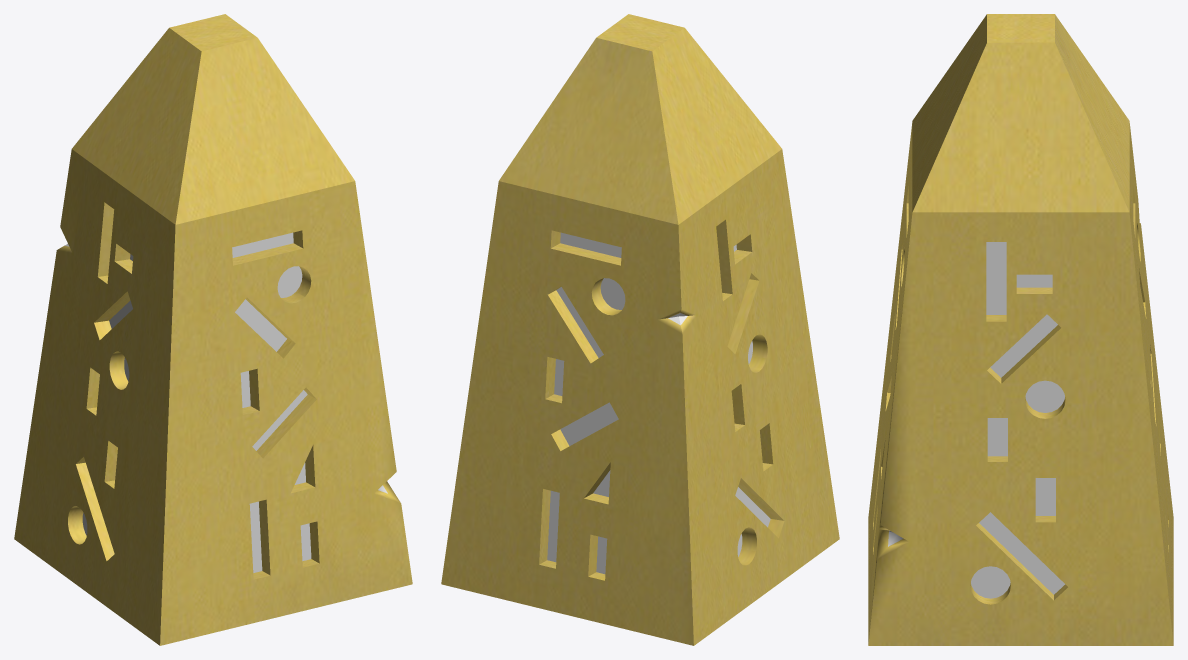
File: doradoParpadeoVerde.fbx
3 views of the same model, side by side, from view 1: azimuth 30°, elevation 25°; view 2: azimuth 150°, elevation 25°; view 3: azimuth 270°, elevation 25° (orthographic). The views are drawn at different scales.
Parts seen in each view (by area): view 1: pCube40; view 2: pCube40; view 3: pCube40.
Part boxes in pixels (left/top/right/bottom): pCube40: left=14, top=14, right=412, bottom=645; pCube40: left=441, top=14, right=839, bottom=645; pCube40: left=868, top=14, right=1173, bottom=645.
Bounding box in the file's own units: 3 × 6 × 3.
Materials: 2 (1 with a texture image).
